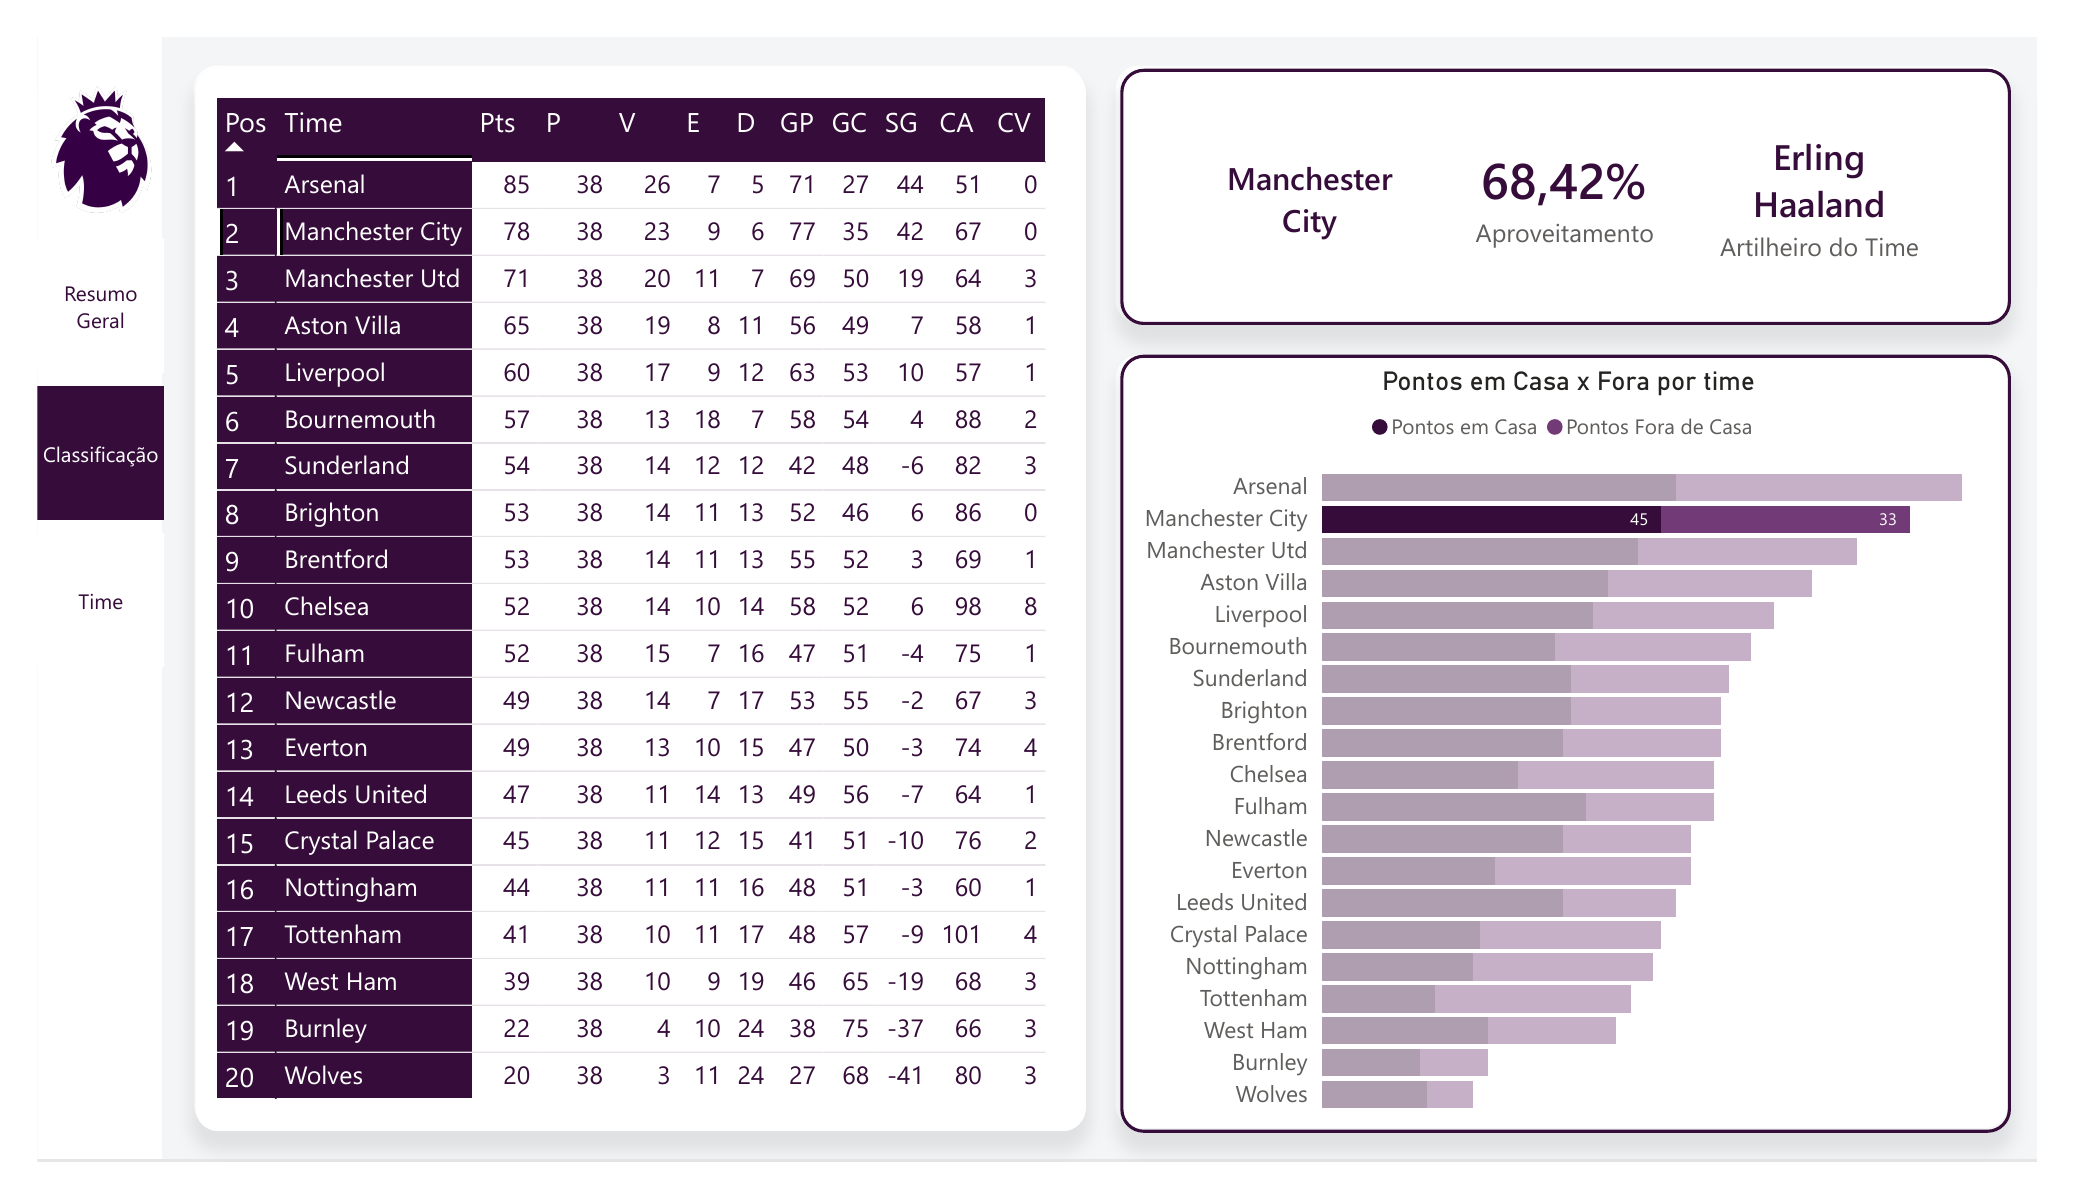

The dashboard page shown, as its layout file describes it:
{"tool":"powerbi","page":{"name":"Classificação","canvas":[1280,720],"ordinal":1},"visuals":[{"type":"image","box":[0,0,80.7,142.8],"z":0},{"type":"pageNavigator","box":[0,128.9,81.1,275.6],"z":1000},{"type":"pivotTable","fields":{"Values":["Min(Times.squad)","Sum(Classificação.pts)","Sum(Classificação.matches_played)","Sum(Classificação.wins)","Sum(Classificação.draws)","Sum(Classificação.loses)","Sum(Classificação.gf)","Sum(Classificação.ga)","Sum(Classificação.gd)","Sum(Estatísticas dos Jogadores.cards_yellow)","Sum(Estatísticas dos Jogadores.cards_red)"],"Rows":["Classificação.rk"]},"box":[100.6,20,570,680],"z":2000},{"type":"cardVisual","fields":{"Data":["_Medidas.Titulo Raio X","_Medidas.Aproveitamento","_Medidas.Artilheiro Time"]},"box":[692.5,20,570.6,164.4],"z":3000},{"type":"barChart","title":"Pontos em Casa x Fora por time","fields":{"Category":["Times.squad"],"Y":["_Medidas.Pts Casa","_Medidas.Pts Fora"]},"box":[692.5,203.1,570.6,498.1],"z":4000}]}

Visuals, with their boxes on the page's 1280x720 design canvas (x1, y1, x2, y2). These are canvas units, not pixel positions in the 2075x1200 screenshot, which may show the page scaled, cropped or inside an application window:
image: Rect(0, 0, 81, 143)
pageNavigator: Rect(0, 129, 81, 404)
pivotTable - Min(Times.squad) x Sum(Classificação.pts): Rect(101, 20, 671, 700)
cardVisual - _Medidas.Titulo Raio X x _Medidas.Aproveitamento: Rect(692, 20, 1263, 184)
"Pontos em Casa x Fora por time" barChart: Rect(692, 203, 1263, 701)
